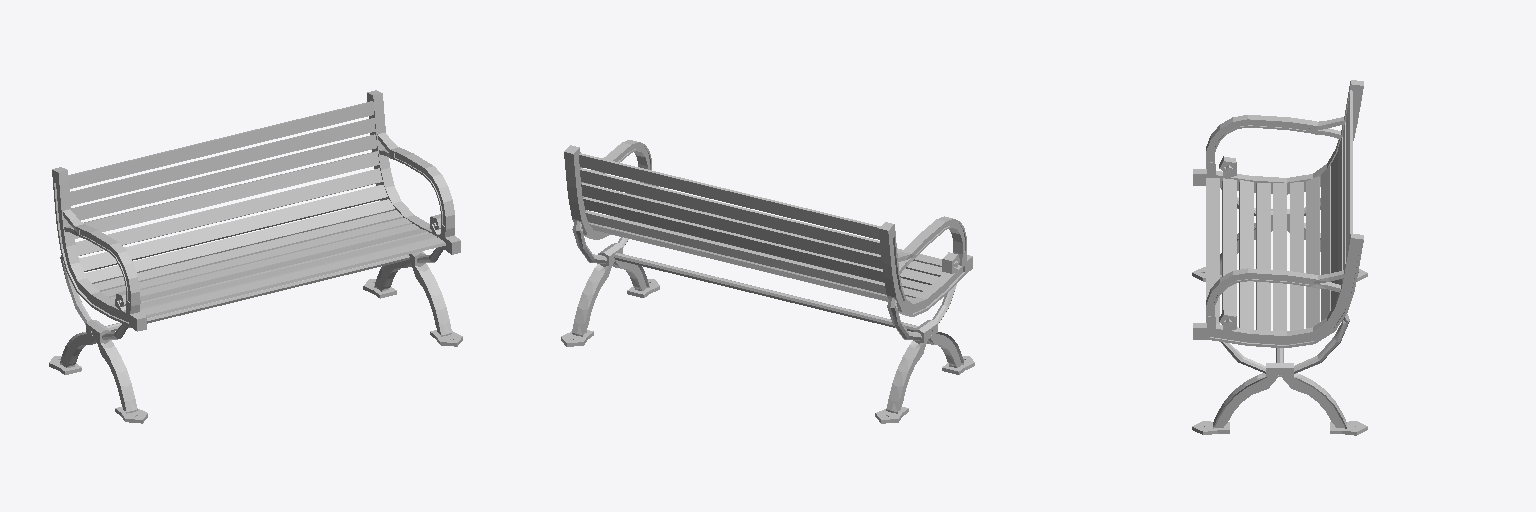
Rendered from bench.obj.
The picture shows the model from 3 angles: view 1: azimuth 30°, elevation 25°; view 2: azimuth 150°, elevation 25°; view 3: azimuth 270°, elevation 25°; orthographic projection.
Visible parts, largest first — view 1: bench; view 2: bench; view 3: bench.
Part boxes in pixels (left/top/right/bottom): bench: left=49, top=90, right=462, bottom=423; bench: left=561, top=140, right=974, bottom=423; bench: left=1192, top=80, right=1367, bottom=435.
Size of the model in its own units: 1.76 by 0.9685 by 0.7941.